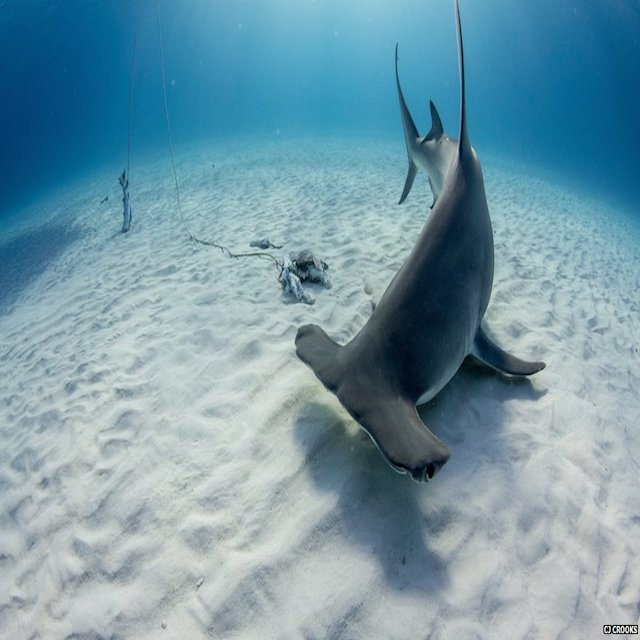hammerhead: (286, 26, 520, 487)
